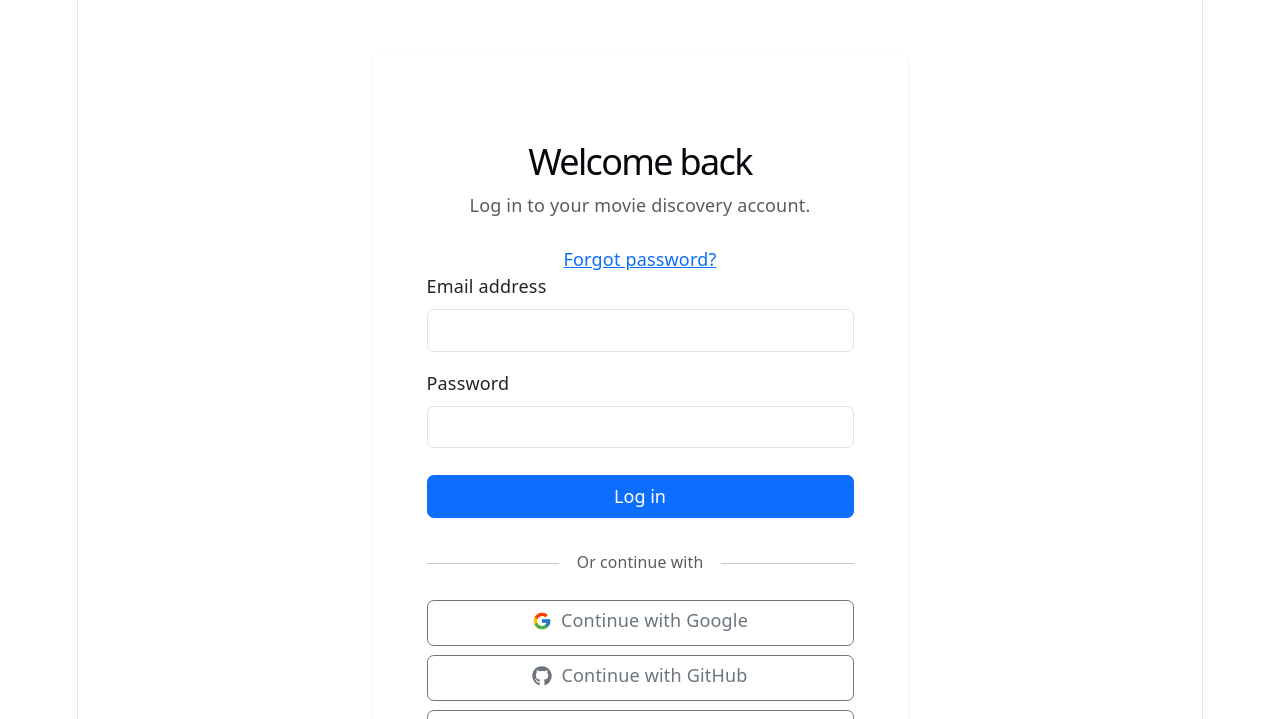
Test: Login flow (AB#29) › displays Laravel validation errors (HTTP 422)
The width and height of the screenshot is (1280, 719).
Type "test@example.com" into the field labelled "Email address" at (640, 330), box [426,309,854,352]
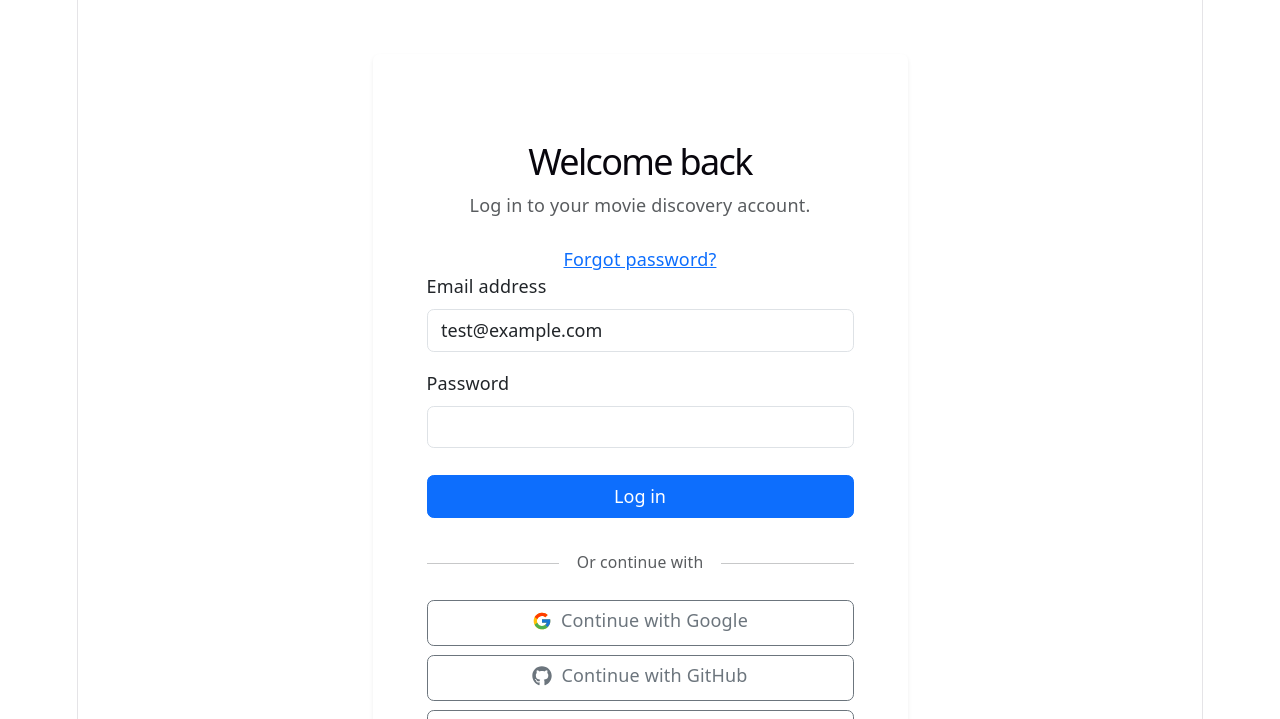
Type "TestPassword123!" into the password field labelled "Password" at (640, 427), box [426,406,854,448]
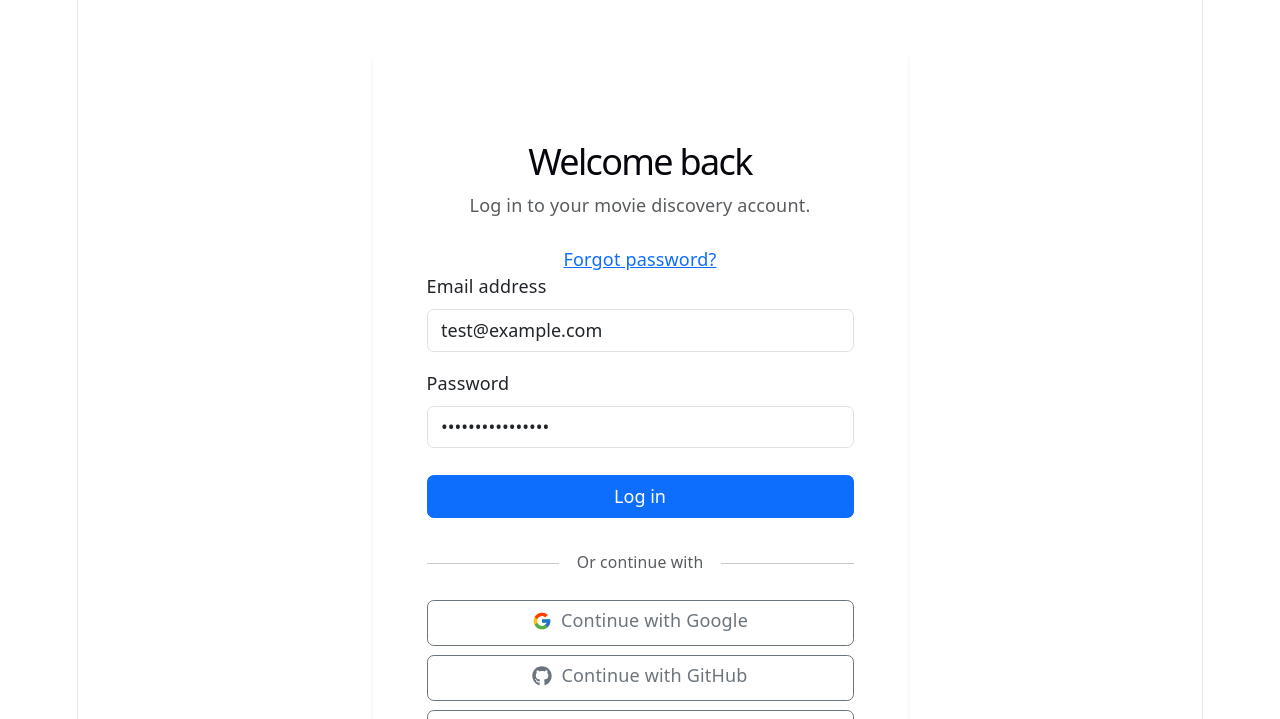
Click the button "Log in" at (640, 496), box [426,475,854,518]
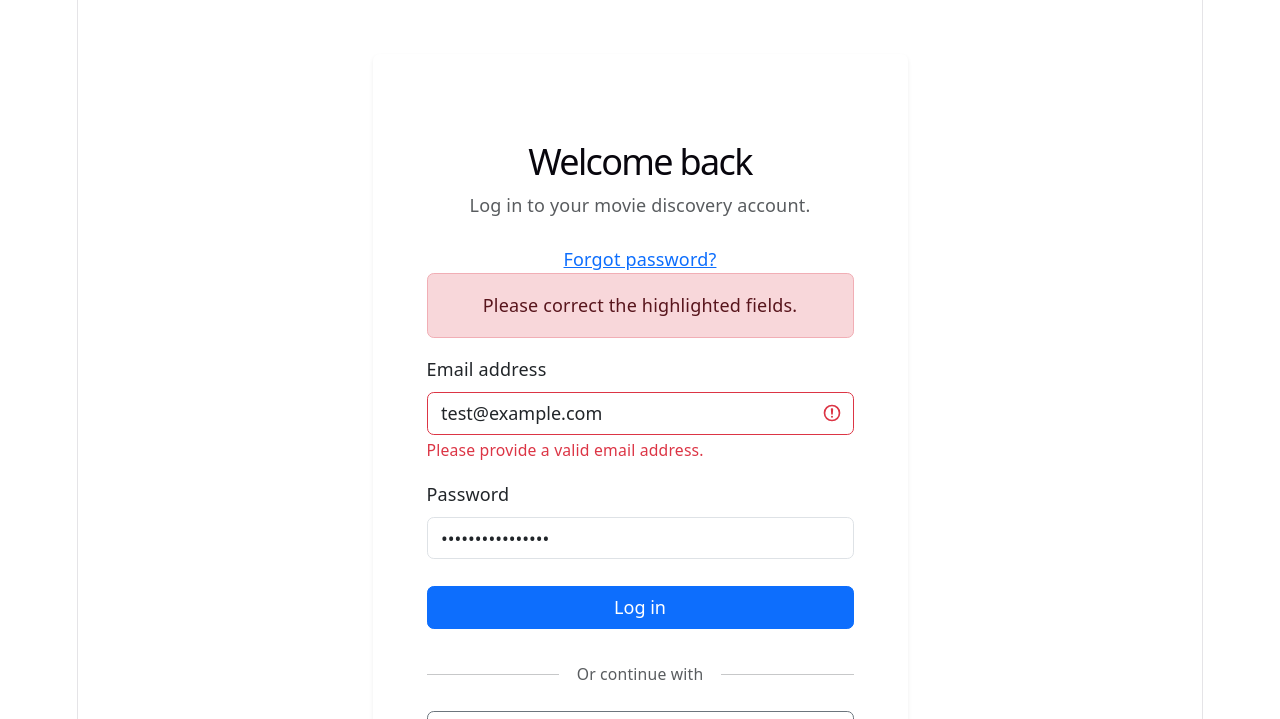
Result: the text "Please provide a valid email address." is shown at [426,439,704,461]
Result: the message reads "Please correct the highlighted fields." at [483,293,797,317]
